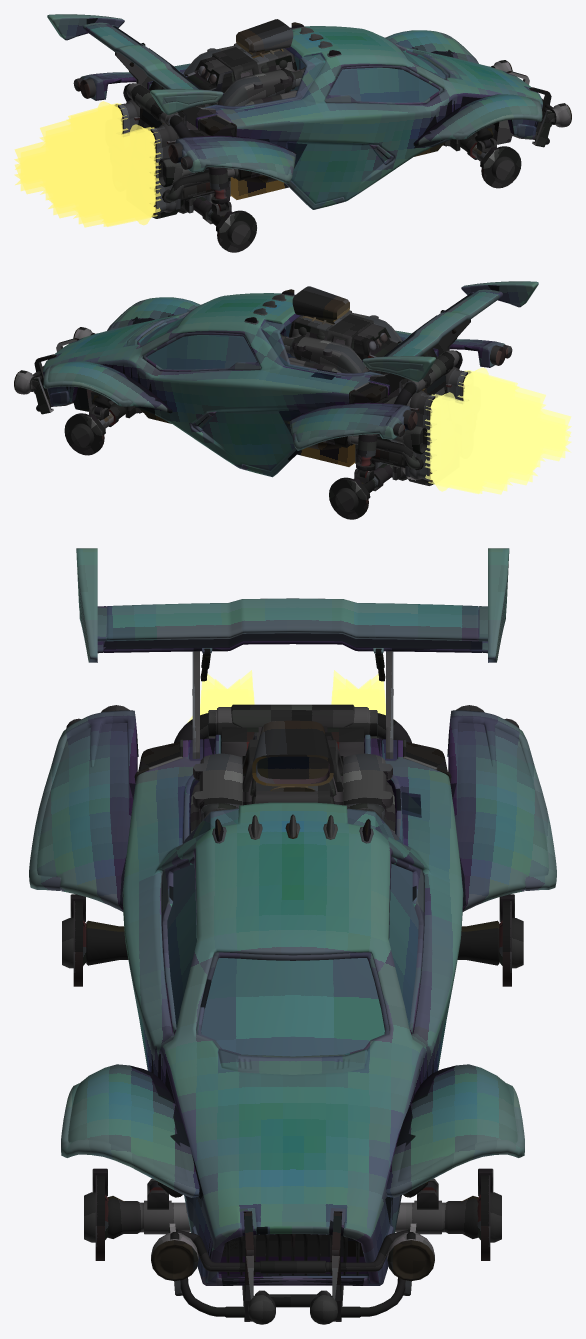
File: Octane_DetailedMaterials.glb
3 views of the same model, one above another, from view 1: azimuth 30°, elevation 25°; view 2: azimuth 150°, elevation 25°; view 3: azimuth 270°, elevation 25° (orthographic). The views are drawn at different scales.
Parts seen in each view (by area): view 1: Octane_DetailedMaterials; view 2: Octane_DetailedMaterials; view 3: Octane_DetailedMaterials.
Part boxes in pixels (<box>): Octane_DetailedMaterials: <box>14,14,571,252</box>; Octane_DetailedMaterials: <box>14,281,571,519</box>; Octane_DetailedMaterials: <box>29,548,556,1324</box>.
Bounding box in the file's own units: 1.6 × 0.5549 × 0.7256.
6 materials, 5 textured.
